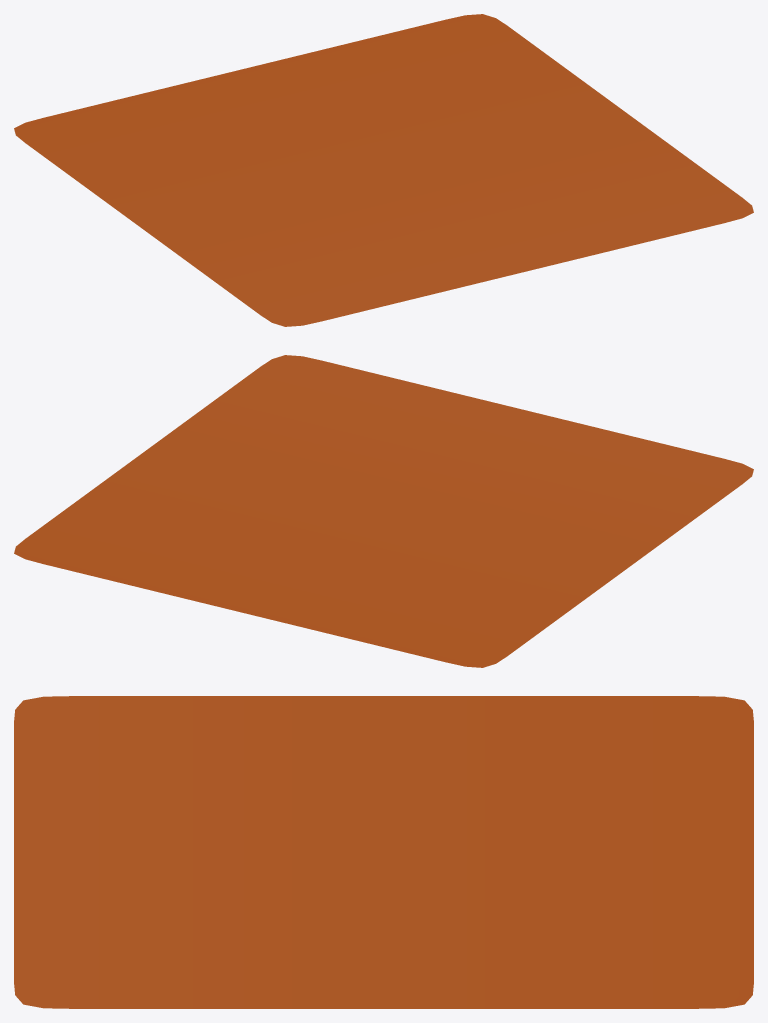
The model's file is terrain01.fbx.
The picture shows the model from 3 angles, top to bottom: view 1: azimuth 30°, elevation 25°; view 2: azimuth 150°, elevation 25°; view 3: azimuth 270°, elevation 25°; orthographic projection. The views are drawn at different scales.
Visible parts, largest first — view 1: Terrain; view 2: Terrain; view 3: Terrain.
Part boxes in pixels (box(x1,y1,x2,y2)): Terrain: box(14, 14, 753, 326); Terrain: box(14, 355, 753, 667); Terrain: box(14, 696, 753, 1008).
Size of the model in its own units: 15000 by 0 by 15000.
